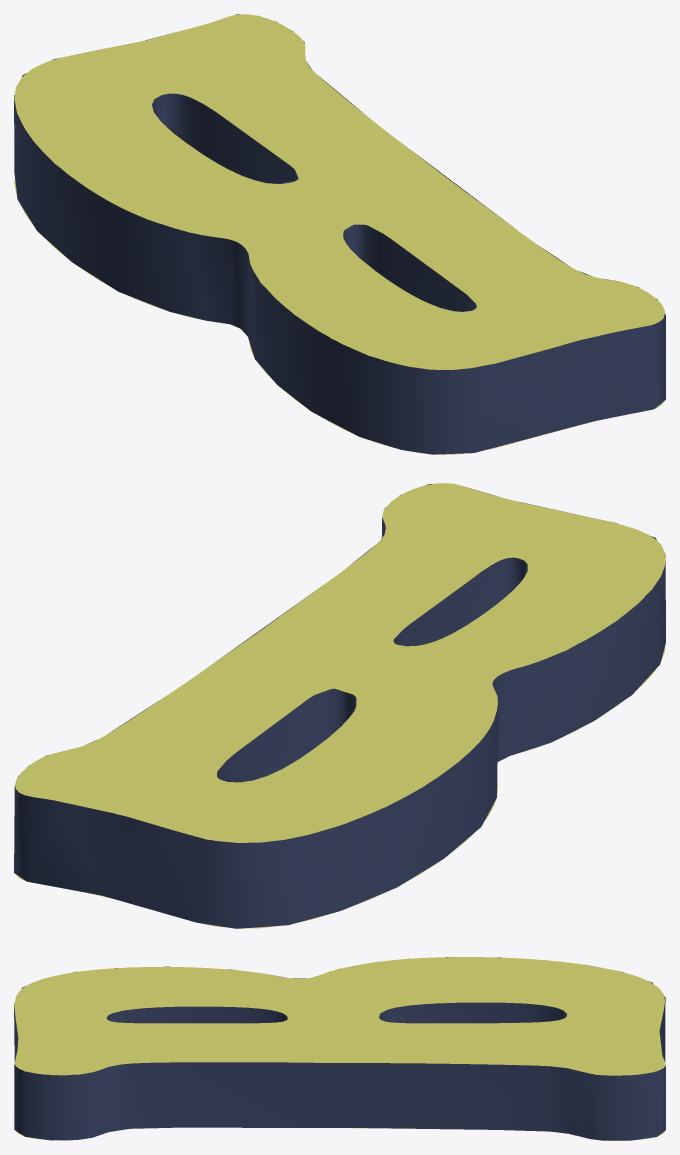
Rendered from b_boss.fbx.
The picture shows the model from 3 angles, top to bottom: view 1: azimuth 30°, elevation 25°; view 2: azimuth 150°, elevation 25°; view 3: azimuth 270°, elevation 25°; orthographic projection. The views are drawn at different scales.
Visible parts, largest first — view 1: B; view 2: B; view 3: B.
Part boxes in pixels (x1,y1,x2,y2): B: [14, 14, 665, 454]; B: [14, 483, 665, 928]; B: [14, 957, 665, 1140].
Size of the model in its own units: 0.6236 by 0.1599 by 1.45.
